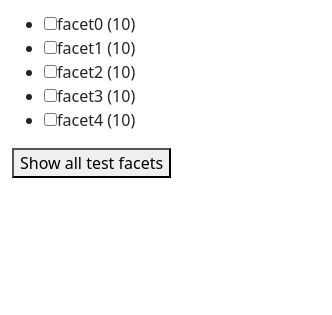
FacetChecklist component › when there are more than five facets › displays all facets with a button to show less when "Show all" is clicked
Click the button "Show all test facets" at coordinates (92, 163), box [12,148,171,178]
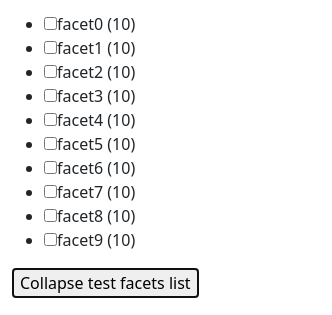
Check: the button "Collapse test facets list" is shown, box [12,268,199,298]
Check: the text "facet5 (10)" is shown, box [57,132,135,156]
Check: the text "facet9 (10)" is shown, box [57,228,135,252]
